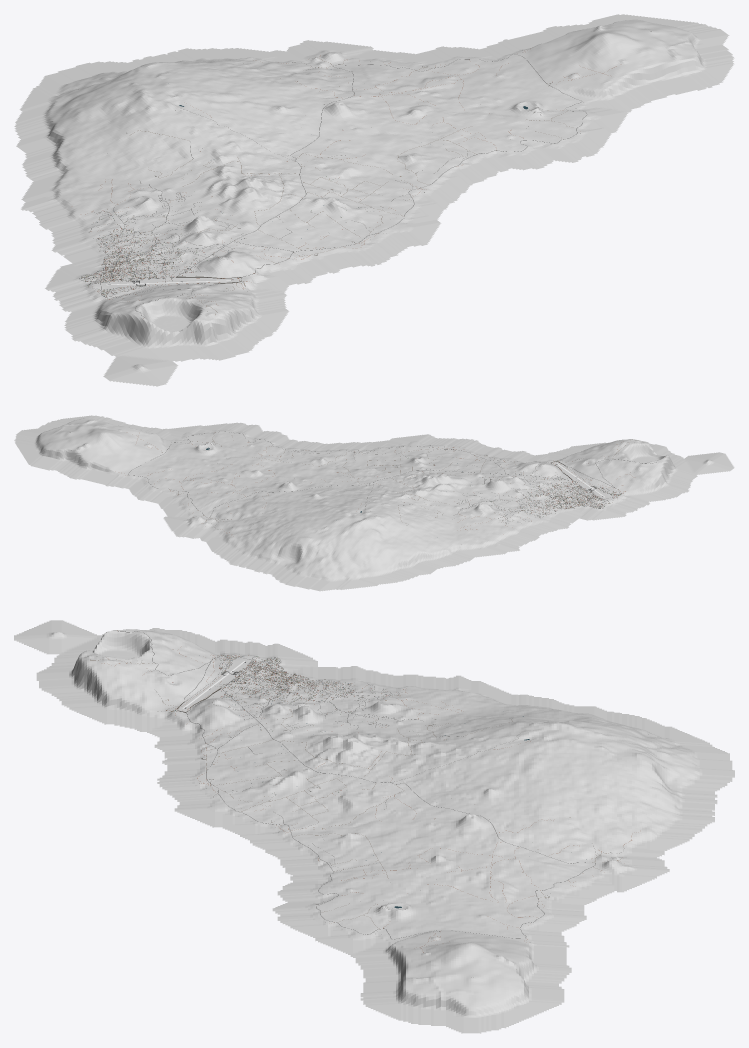
The model's file is Isla de pascua.gltf.
3 renders of one model, top to bottom at view 1: azimuth 30°, elevation 25°; view 2: azimuth 150°, elevation 25°; view 3: azimuth 270°, elevation 25°, orthographic. The views are drawn at different scales.
Parts seen in each view (by area): view 1: Terrain, OSM_Roads, Airport_Buildings, OSM_Buildings; view 2: Terrain, OSM_Roads, Airport_Buildings; view 3: Terrain, OSM_Roads, Airport_Buildings, OSM_Buildings.
Boxes of the visible parts, x1,y1,x2,y2 form: Terrain: (14,14,734,386); OSM_Roads: (79,55,616,317); Airport_Buildings: (81,247,245,300); OSM_Buildings: (93,66,552,318); Terrain: (14,415,734,591); OSM_Roads: (128,431,656,532); Airport_Buildings: (523,460,630,508); Terrain: (14,620,734,1033); OSM_Roads: (90,631,631,952); Airport_Buildings: (168,649,280,716); OSM_Buildings: (96,630,592,904).
Size of the model in its own units: 24312 by 1077 by 17938.
Materials: 29 (12 with a texture image).
